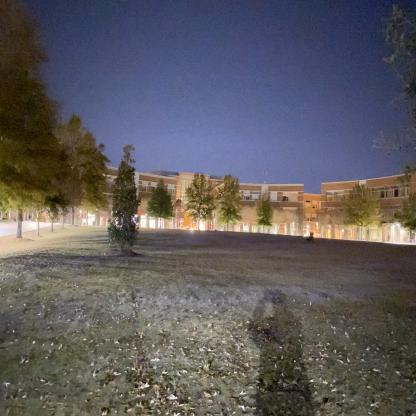eb2: (59, 156, 323, 249)
